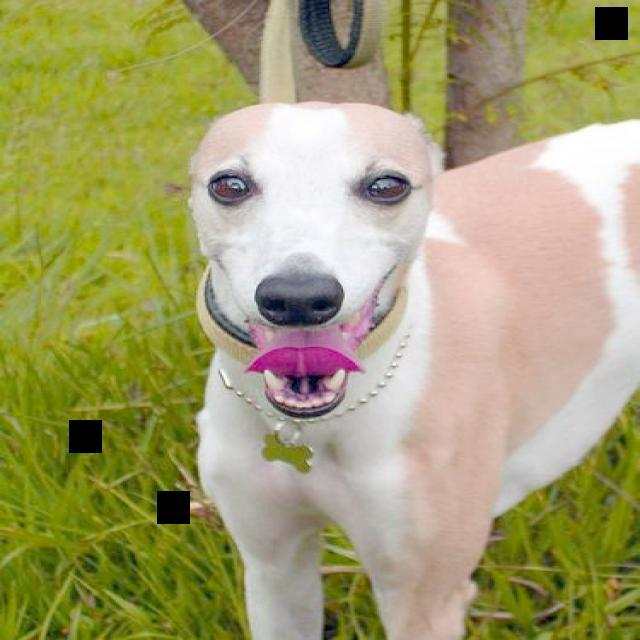adult_dog: (185, 98, 640, 640)
